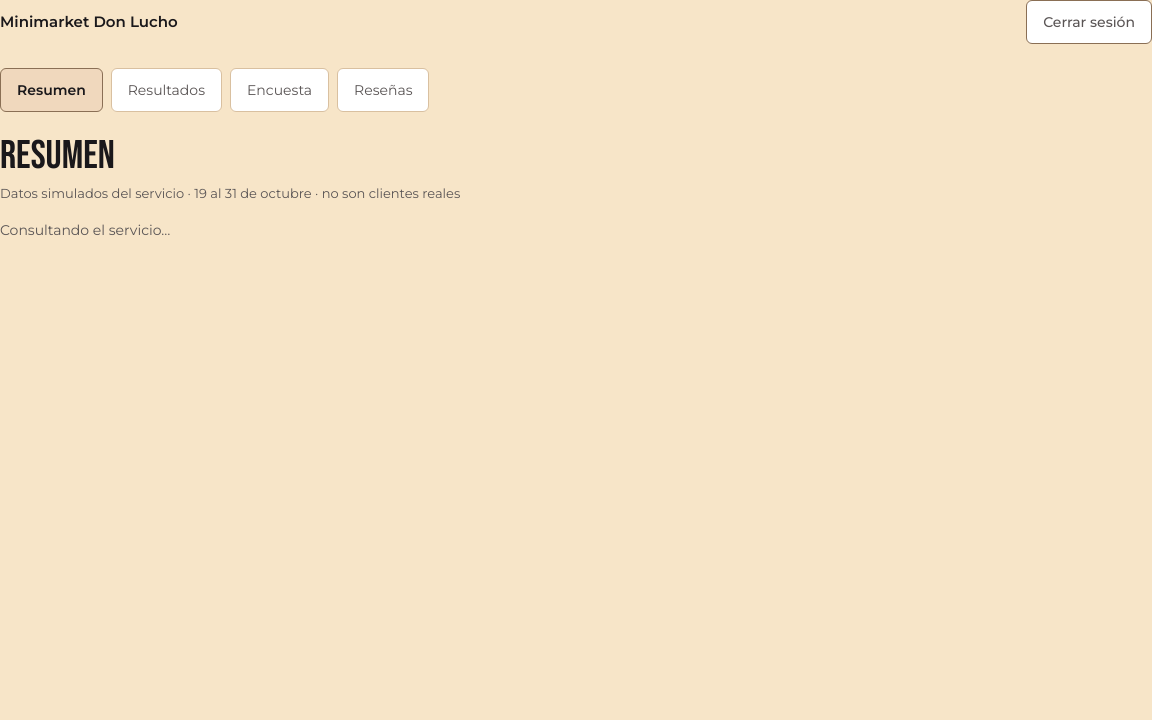
Scenario: PanelPage: dependiente de la sesión › 8. pestaña Encuesta usa el empresa_id de la sesión
The image size is (1152, 720).
Click the tab "Encuesta": (280, 90) [230,68,329,112]
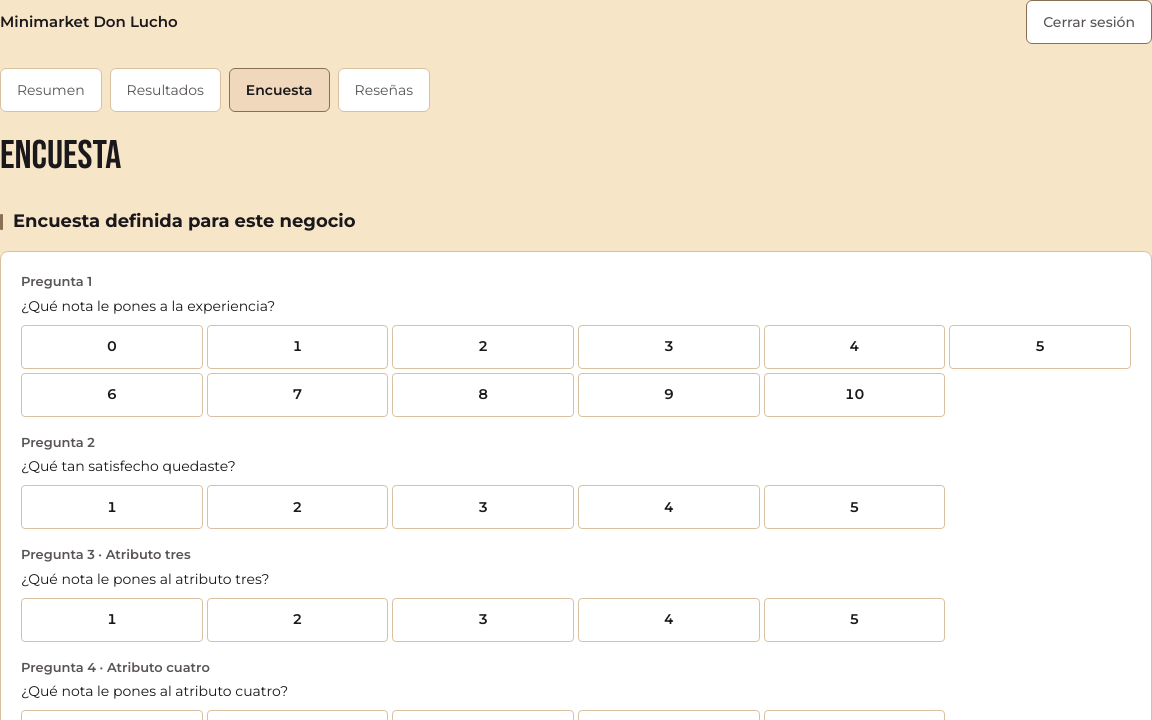
Check: the heading "Encuesta definida para este negocio" is shown, box [0,210,356,232]
